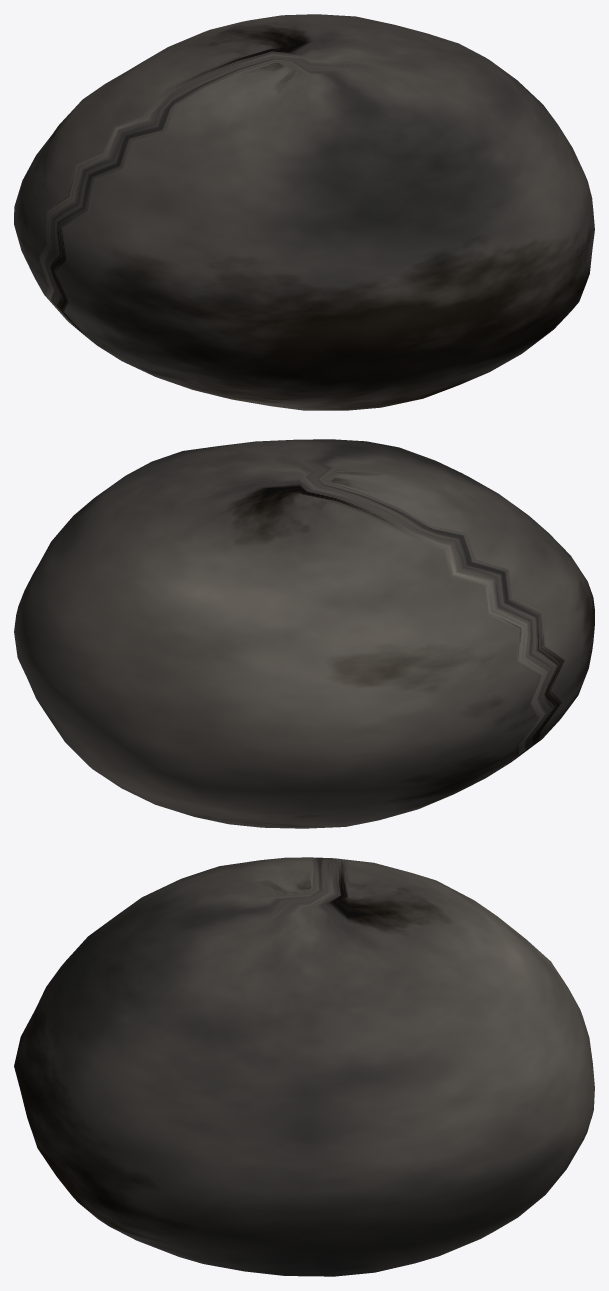
Rendered from rock_c.glb.
3 renders of one model, top to bottom at view 1: azimuth 30°, elevation 25°; view 2: azimuth 150°, elevation 25°; view 3: azimuth 270°, elevation 25°, orthographic. The views are drawn at different scales.
Visible parts, largest first — view 1: rock; view 2: rock; view 3: rock.
Boxes of the visible parts, left/top/right/bottom form: rock: left=14, top=14, right=594, bottom=410; rock: left=14, top=439, right=594, bottom=828; rock: left=14, top=857, right=594, bottom=1276.
Bounding box in the file's own units: 2 × 1.2 × 1.94.
1 material, 1 textured.
